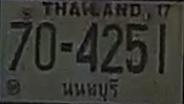0: (34, 21, 56, 70)
1: (158, 23, 165, 74)
2: (100, 22, 122, 72)
4: (75, 22, 97, 72)
5: (125, 22, 147, 72)
7: (9, 20, 32, 70)
NBI: (57, 77, 123, 104)
